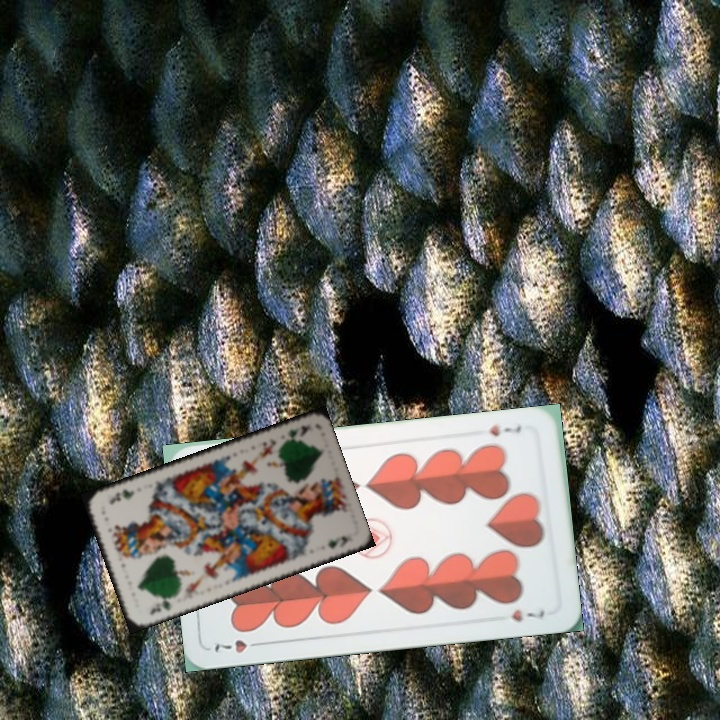GK: (278, 421, 313, 445), (145, 593, 176, 618)
H7: (210, 636, 267, 655), (485, 421, 524, 439)
